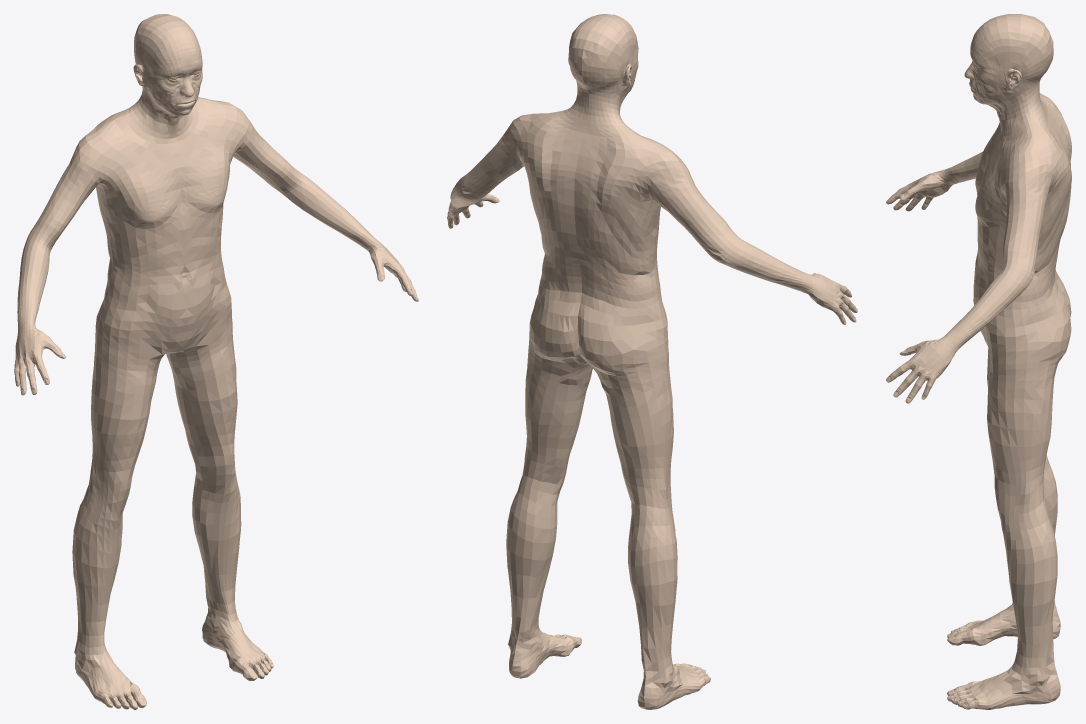
Rendered from male-older-fit-medium.glb.
3 views of the same model, side by side, from view 1: azimuth 30°, elevation 25°; view 2: azimuth 150°, elevation 25°; view 3: azimuth 270°, elevation 25° (orthographic).
Visible parts, largest first — view 1: world; view 2: world; view 3: world.
Boxes of the visible parts, box(x1,y1,x2,y2) form: world: box(14, 14, 418, 709); world: box(447, 14, 857, 709); world: box(886, 14, 1071, 709).
Size of the model in its own units: 1.22 by 1.93 by 0.4968.
